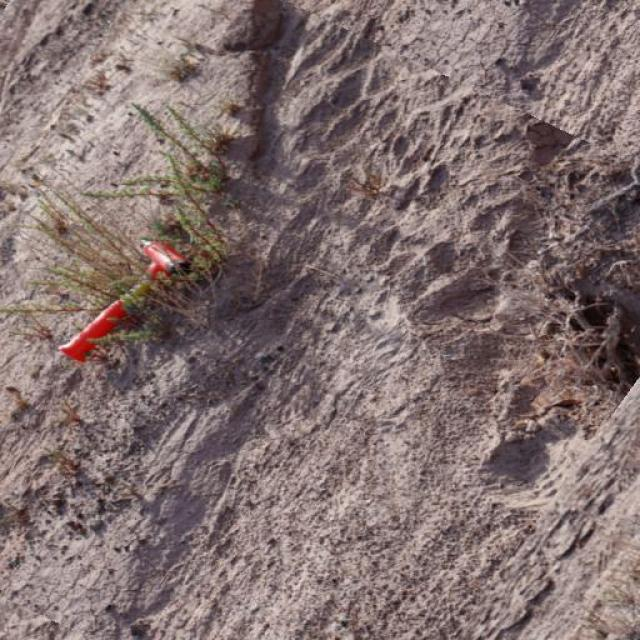mallet: (59, 236, 195, 364)
